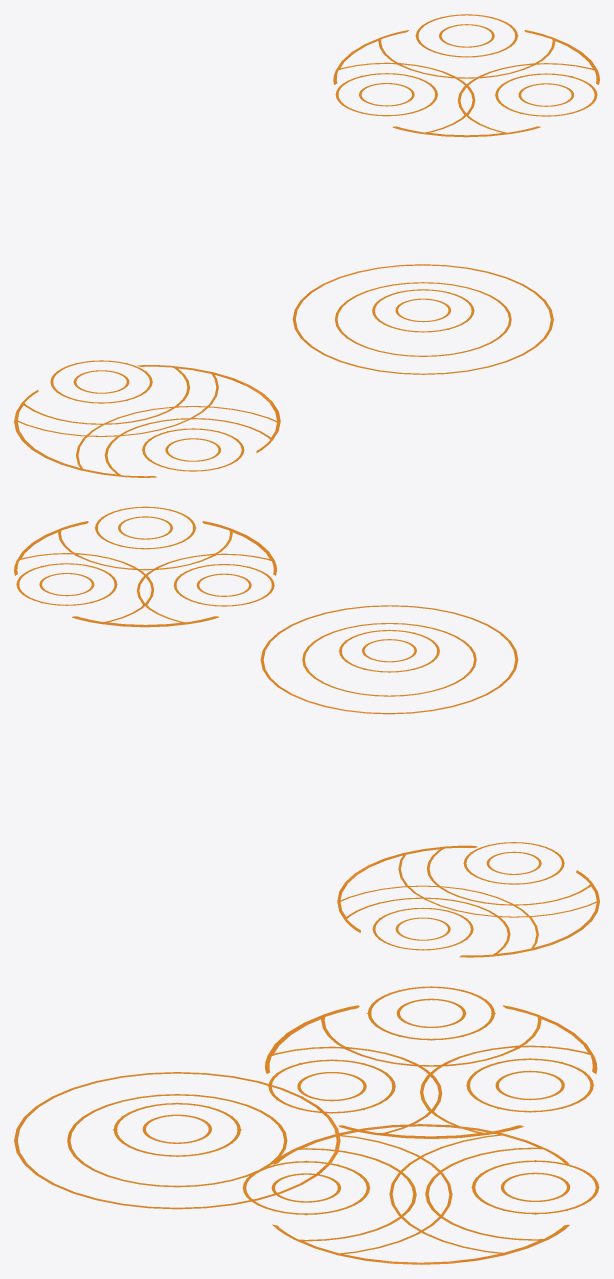
The model's file is Merchant_Emissive.fbx.
The picture shows the model from 3 angles, top to bottom: view 1: azimuth 30°, elevation 25°; view 2: azimuth 150°, elevation 25°; view 3: azimuth 270°, elevation 25°; orthographic projection. The views are drawn at different scales.
Visible parts, largest first — view 1: SM_Merchant_Platform_01_Emissive.mo, SM_Merchant_Platform_02_Emissive_02.mo, SM_Merchant_Platform_02_Emissive_01.mo, SM_Merchant_Platform_03_Emissive.mo.002, SM_Merchant_Platform_03_Emissive.mo.001, SM_Merchant_Platform_03_Emissive.mo; view 2: SM_Merchant_Platform_01_Emissive.mo, SM_Merchant_Platform_02_Emissive_02.mo, SM_Merchant_Platform_02_Emissive_01.mo, SM_Merchant_Platform_03_Emissive.mo.002, SM_Merchant_Platform_03_Emissive.mo, SM_Merchant_Platform_03_Emissive.mo.001; view 3: SM_Merchant_Platform_01_Emissive.mo, SM_Merchant_Platform_02_Emissive_02.mo, SM_Merchant_Platform_02_Emissive_01.mo, SM_Merchant_Platform_03_Emissive.mo.002, SM_Merchant_Platform_03_Emissive.mo, SM_Merchant_Platform_03_Emissive.mo.001.
Part boxes in pixels (box(x1,y1,x2,y2)): SM_Merchant_Platform_01_Emissive.mo: box(292, 264, 553, 374); SM_Merchant_Platform_02_Emissive_02.mo: box(14, 360, 280, 477); SM_Merchant_Platform_02_Emissive_01.mo: box(14, 365, 277, 477); SM_Merchant_Platform_03_Emissive.mo.002: box(333, 14, 599, 136); SM_Merchant_Platform_03_Emissive.mo.001: box(333, 30, 598, 137); SM_Merchant_Platform_03_Emissive.mo: box(333, 30, 598, 136); SM_Merchant_Platform_01_Emissive.mo: box(260, 605, 518, 714); SM_Merchant_Platform_02_Emissive_02.mo: box(337, 845, 599, 956); SM_Merchant_Platform_02_Emissive_01.mo: box(337, 842, 599, 957); SM_Merchant_Platform_03_Emissive.mo.002: box(14, 521, 276, 626); SM_Merchant_Platform_03_Emissive.mo: box(14, 521, 275, 626); SM_Merchant_Platform_03_Emissive.mo.001: box(15, 506, 275, 627); SM_Merchant_Platform_01_Emissive.mo: box(14, 1072, 340, 1209); SM_Merchant_Platform_02_Emissive_02.mo: box(272, 1124, 599, 1264); SM_Merchant_Platform_02_Emissive_01.mo: box(242, 1125, 569, 1264); SM_Merchant_Platform_03_Emissive.mo.002: box(265, 1005, 596, 1137); SM_Merchant_Platform_03_Emissive.mo: box(266, 986, 596, 1138); SM_Merchant_Platform_03_Emissive.mo.001: box(267, 1006, 597, 1138).
Bounding box in the file's own units: 1134 × 519 × 834.
Materials: 3 (3 with a texture image).
